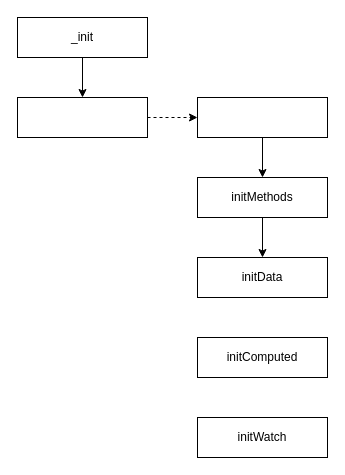
Some shapes in this 345 by 475 pixel diagram are drawn without their labels. The shapes that lost their labels are listed below. From the top down, each one's box as (x1, y1, x2, y2) in pixels, then its label:
(16, 96, 148, 138): initState
(196, 96, 328, 138): initProps
